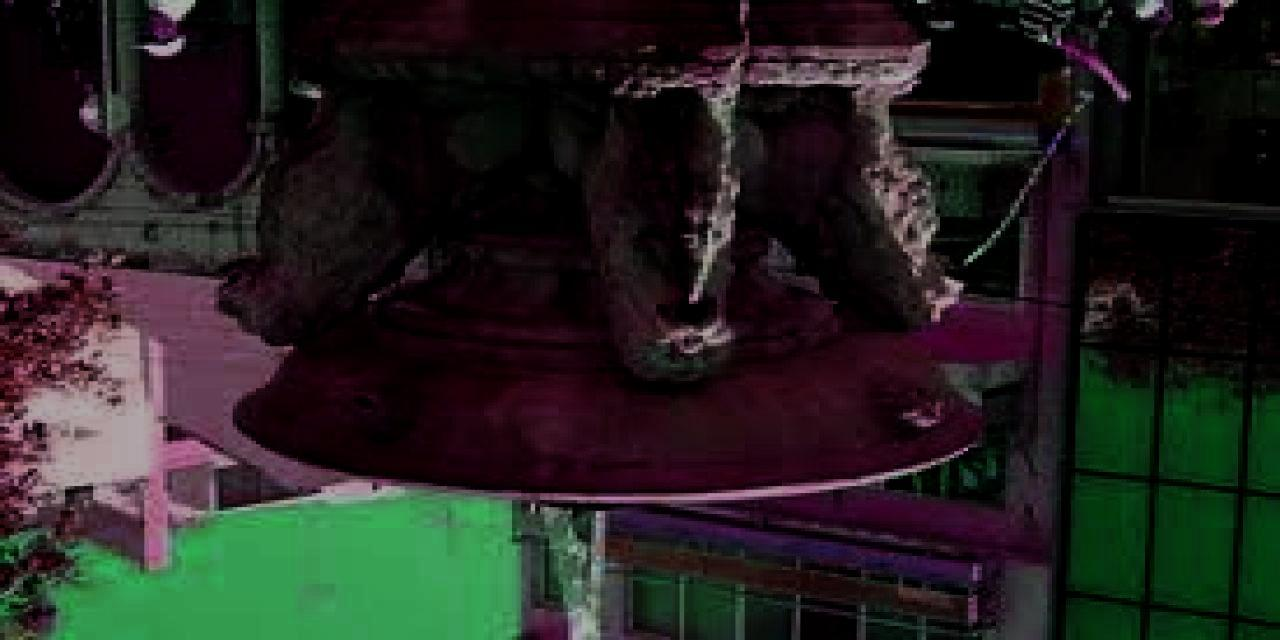Liontaria: (204, 1, 980, 497)
